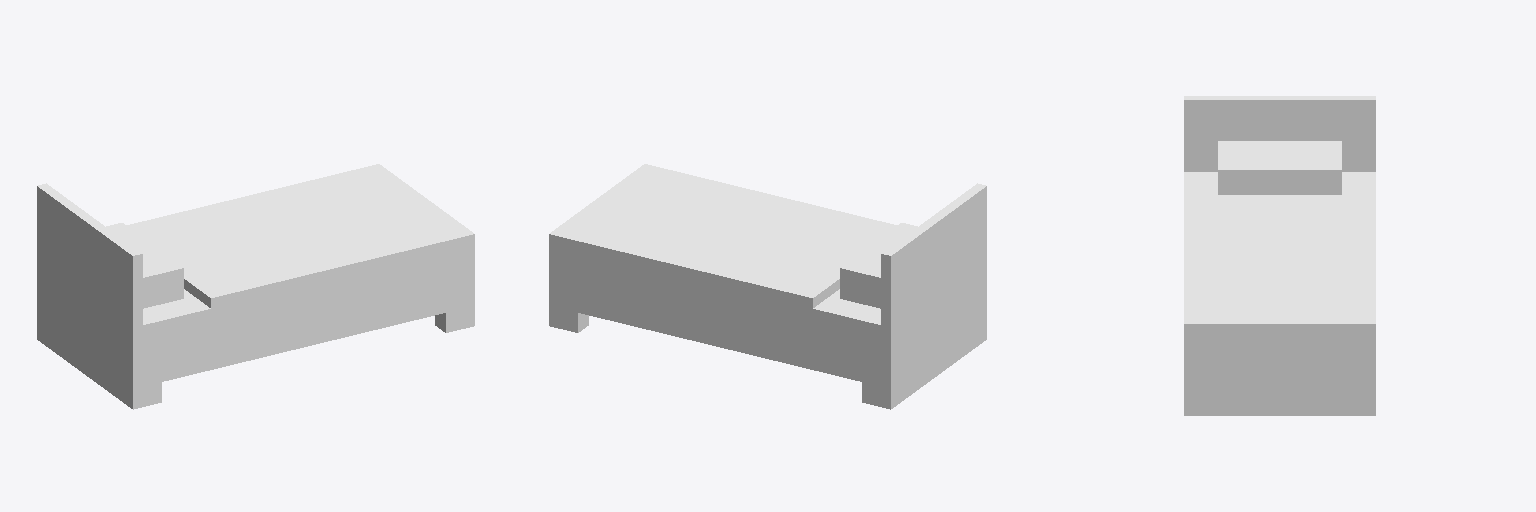
The model's file is apt:bed-nathan.obj.
3 views of the same model, side by side, from view 1: azimuth 30°, elevation 25°; view 2: azimuth 150°, elevation 25°; view 3: azimuth 270°, elevation 25° (orthographic).
Parts seen in each view (by area): view 1: apt:bed-Nathan; view 2: apt:bed-Nathan; view 3: apt:bed-Nathan.
Boxes of the visible parts, x1,y1,x2,y2 form: apt:bed-Nathan: [37, 164, 474, 409]; apt:bed-Nathan: [549, 164, 986, 409]; apt:bed-Nathan: [1184, 96, 1375, 415].
Bounding box in the file's own units: 35 × 15 × 17.